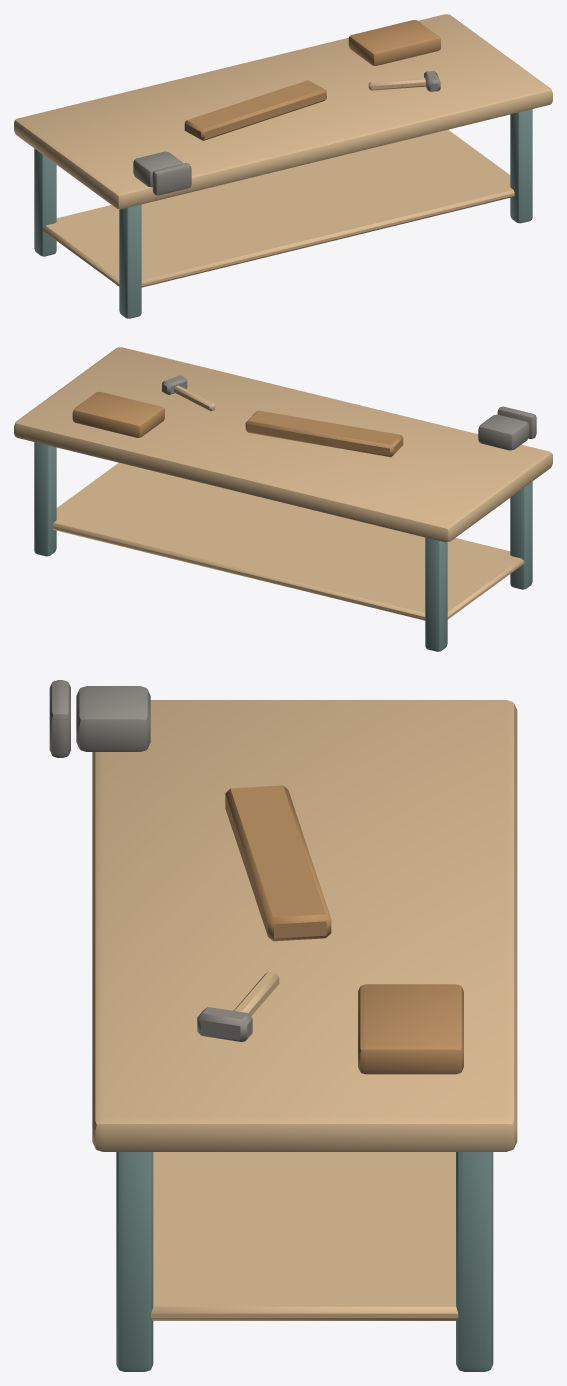
File: workbench.glb
3 views of the same model, one above another, from view 1: azimuth 30°, elevation 25°; view 2: azimuth 150°, elevation 25°; view 3: azimuth 270°, elevation 25° (orthographic). The views are drawn at different scales.
Parts seen in each view (by area): view 1: wood, paint, crate, steel_dark; view 2: wood, paint, crate, steel_dark; view 3: wood, crate, paint, steel_dark.
Boxes of the visible parts, bbox=[...] form: wood: bbox=[14, 14, 552, 287]; paint: bbox=[34, 109, 532, 318]; crate: bbox=[184, 20, 440, 140]; steel_dark: bbox=[133, 71, 440, 195]; wood: bbox=[14, 347, 552, 620]; paint: bbox=[34, 442, 532, 651]; crate: bbox=[72, 391, 403, 457]; steel_dark: bbox=[162, 375, 536, 450]; wood: bbox=[92, 700, 517, 1320]; crate: bbox=[225, 785, 463, 1074]; paint: bbox=[116, 1152, 493, 1371]; steel_dark: bbox=[49, 680, 252, 1041].
Bounding box in the file's own units: 1.9 × 0.65 × 0.88.
